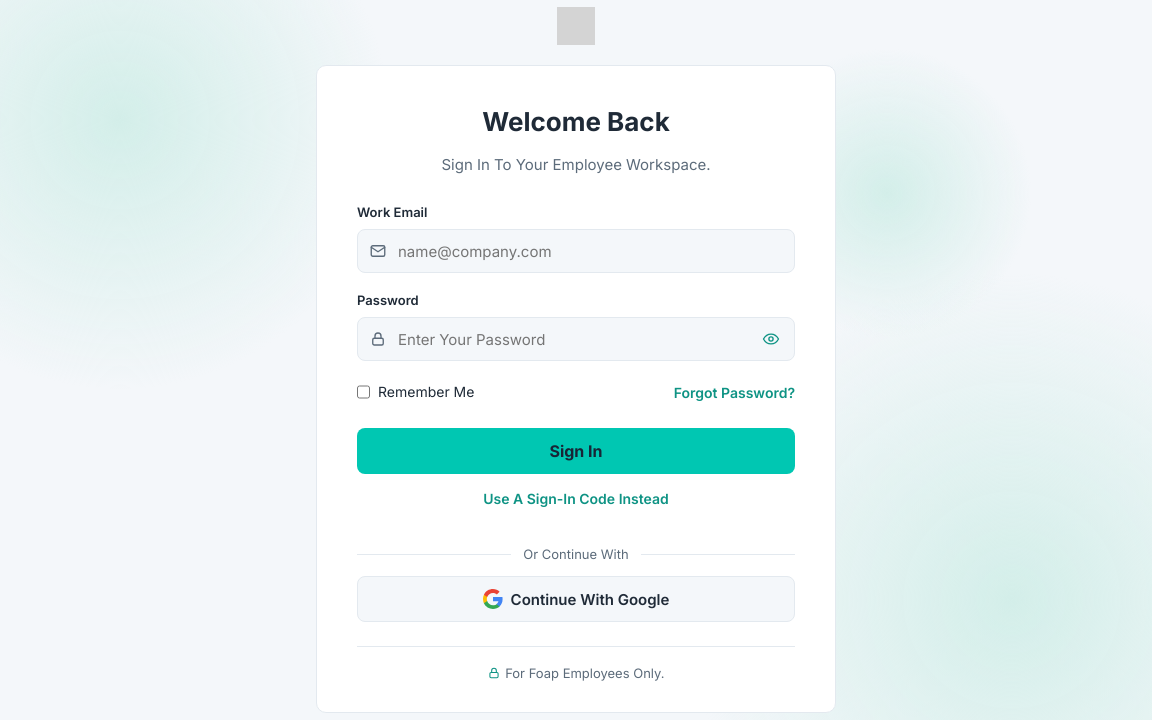
AuthGate screens › shows a clean inline error on failed password sign-in
This screenshot has width=1152, height=720.
expect the field labelled "Work Email" is shown: met, box [357,229,795,273]
Click the button "Sign In" at (576, 451), box [357,428,795,474]
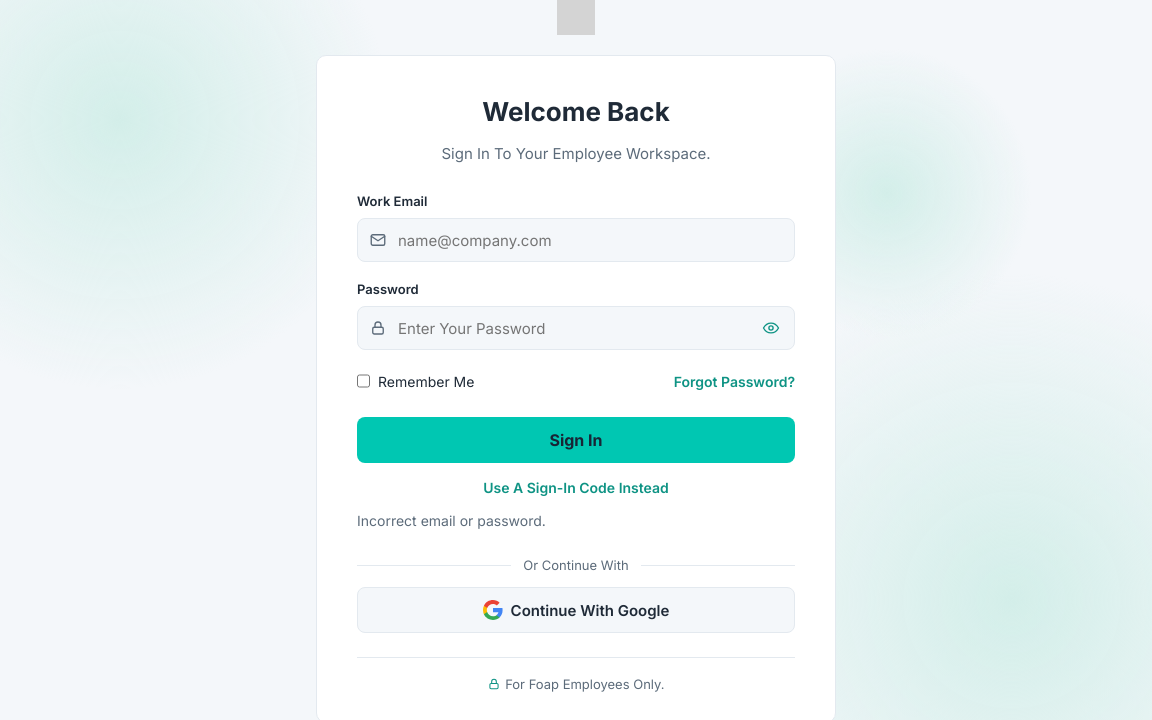
expect the heading "Welcome Back" is shown: met, box [482,96,670,127]
expect the text "Incorrect email or password." is shown: met, box [357,512,546,529]
